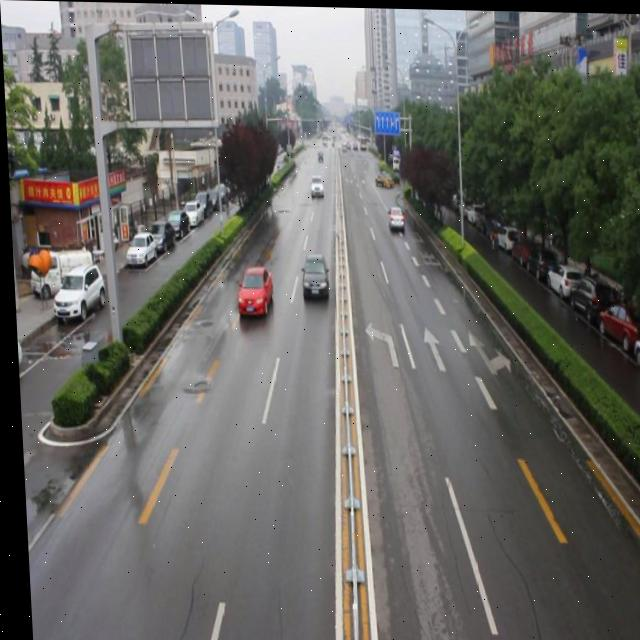car: (233, 262, 271, 317), (296, 251, 327, 298), (384, 203, 403, 231), (371, 167, 392, 189), (306, 173, 322, 197)
